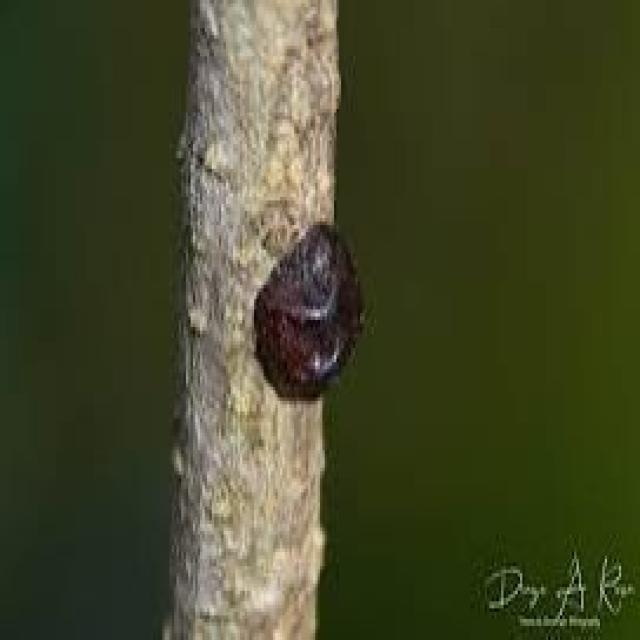Black Scale: (254, 222, 365, 397)
